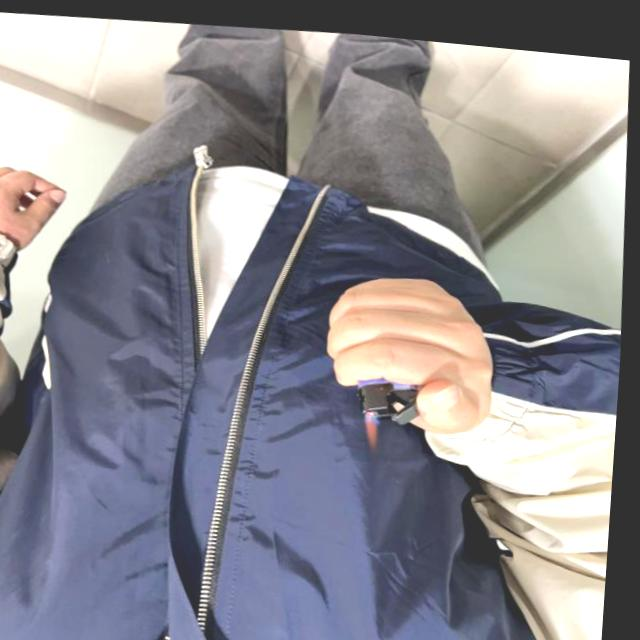Fire: (365, 398, 387, 439)
